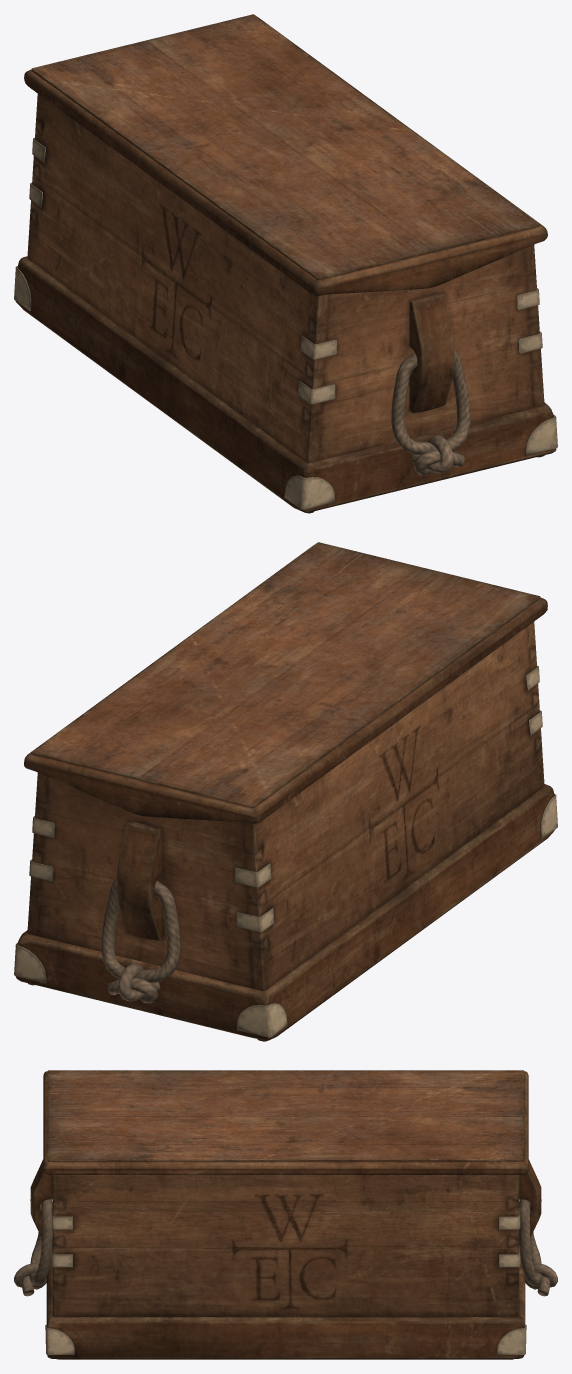
Rendered from wooden_crate_02.glb.
3 views of the same model, one above another, from view 1: azimuth 30°, elevation 25°; view 2: azimuth 150°, elevation 25°; view 3: azimuth 270°, elevation 25° (orthographic). The views are drawn at different scales.
Parts seen in each view (by area): view 1: wooden_crate_02_crate, wooden_crate_02_lid; view 2: wooden_crate_02_crate, wooden_crate_02_lid; view 3: wooden_crate_02_crate, wooden_crate_02_lid.
Boxes of the visible parts, left/top/right/bottom form: wooden_crate_02_crate: left=14, top=94, right=557, bottom=513; wooden_crate_02_lid: left=24, top=14, right=547, bottom=296; wooden_crate_02_crate: left=14, top=621, right=557, bottom=1041; wooden_crate_02_lid: left=24, top=542, right=547, bottom=823; wooden_crate_02_crate: left=14, top=1159, right=557, bottom=1359; wooden_crate_02_lid: left=43, top=1070, right=528, bottom=1174.
Size of the model in its own units: 0.5291 by 0.464 by 1.17.
Materials: 1 (1 with a texture image).
